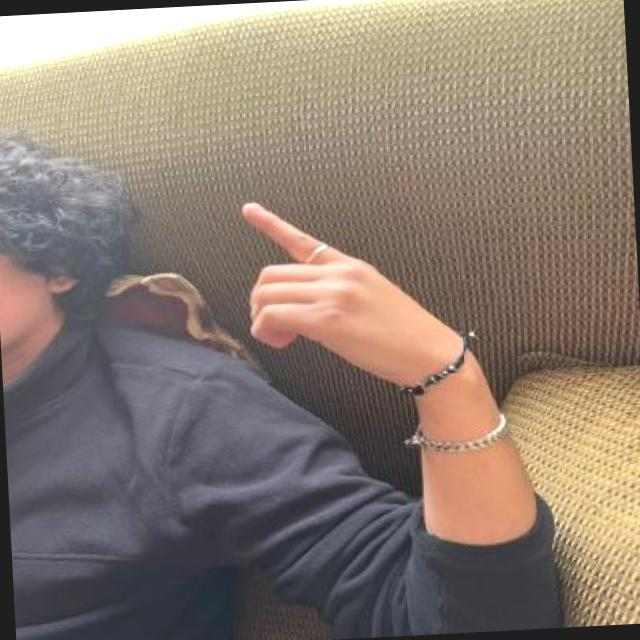Q: (212, 174, 465, 386)
